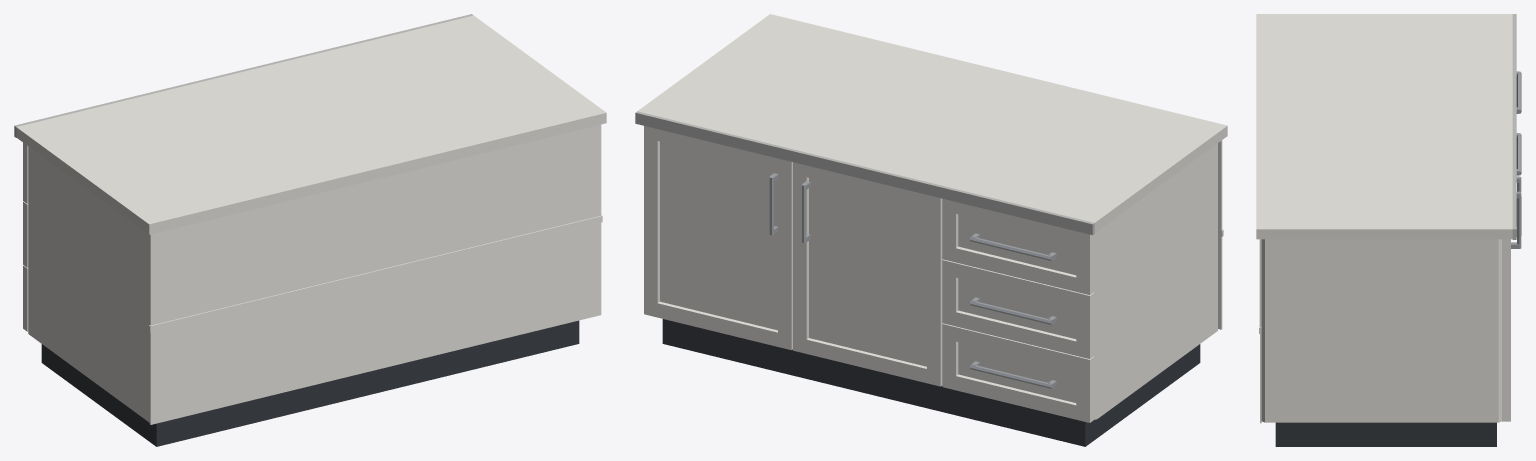
Rendered from SM_LPI_Kitchen_Island_01.fbx.
3 renders of one model, left to right at view 1: azimuth 30°, elevation 25°; view 2: azimuth 150°, elevation 25°; view 3: azimuth 270°, elevation 25°, orthographic. The views are drawn at different scales.
Visible parts, largest first — view 1: SM_LPI_Kitchen_Island_01; view 2: SM_LPI_Kitchen_Island_01; view 3: SM_LPI_Kitchen_Island_01.
Boxes of the visible parts, x1,y1,x2,y2 form: SM_LPI_Kitchen_Island_01: (14,14,606,446); SM_LPI_Kitchen_Island_01: (635,14,1227,446); SM_LPI_Kitchen_Island_01: (1256,14,1521,446).
Size of the model in its own units: 1.84 by 0.9 by 0.959.
